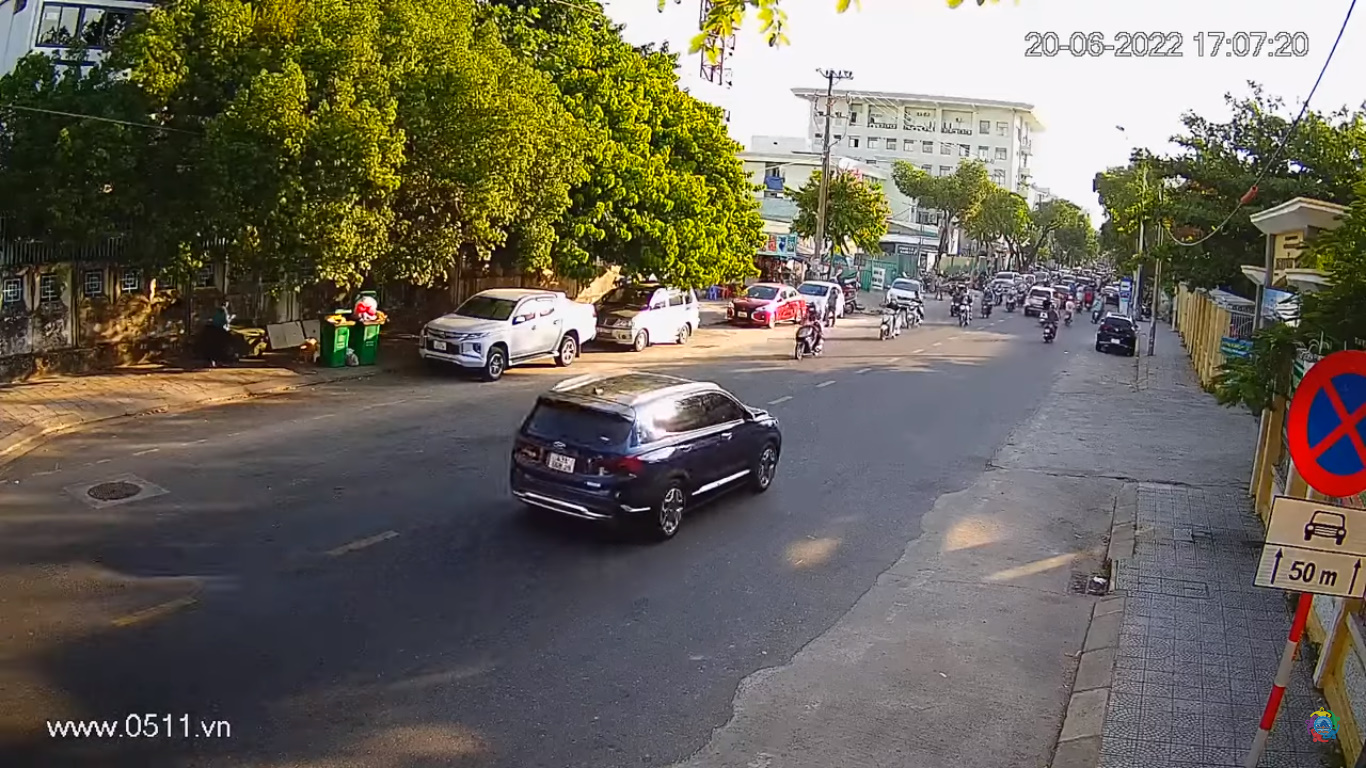car: (505, 374, 785, 536)
